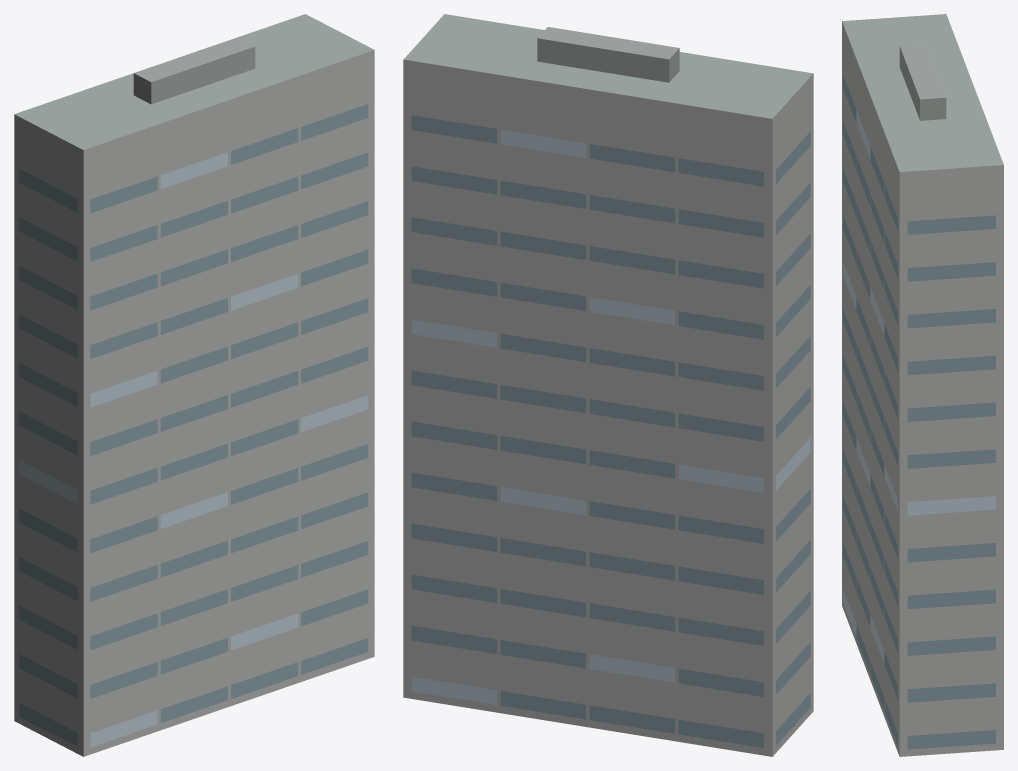
File: apt-a14376501.glb
3 renders of one model, left to right at view 1: azimuth 30°, elevation 25°; view 2: azimuth 150°, elevation 25°; view 3: azimuth 270°, elevation 25°, orthographic. The views are drawn at different scales.
Parts seen in each view (by area): view 1: apt-a14376501; view 2: apt-a14376501; view 3: apt-a14376501.
Boxes of the visible parts, x1,y1,x2,y2 form: apt-a14376501: [14, 14, 374, 756]; apt-a14376501: [403, 14, 813, 756]; apt-a14376501: [842, 14, 1003, 756].
Size of the model in its own units: 38.04 by 68 by 16.46.
